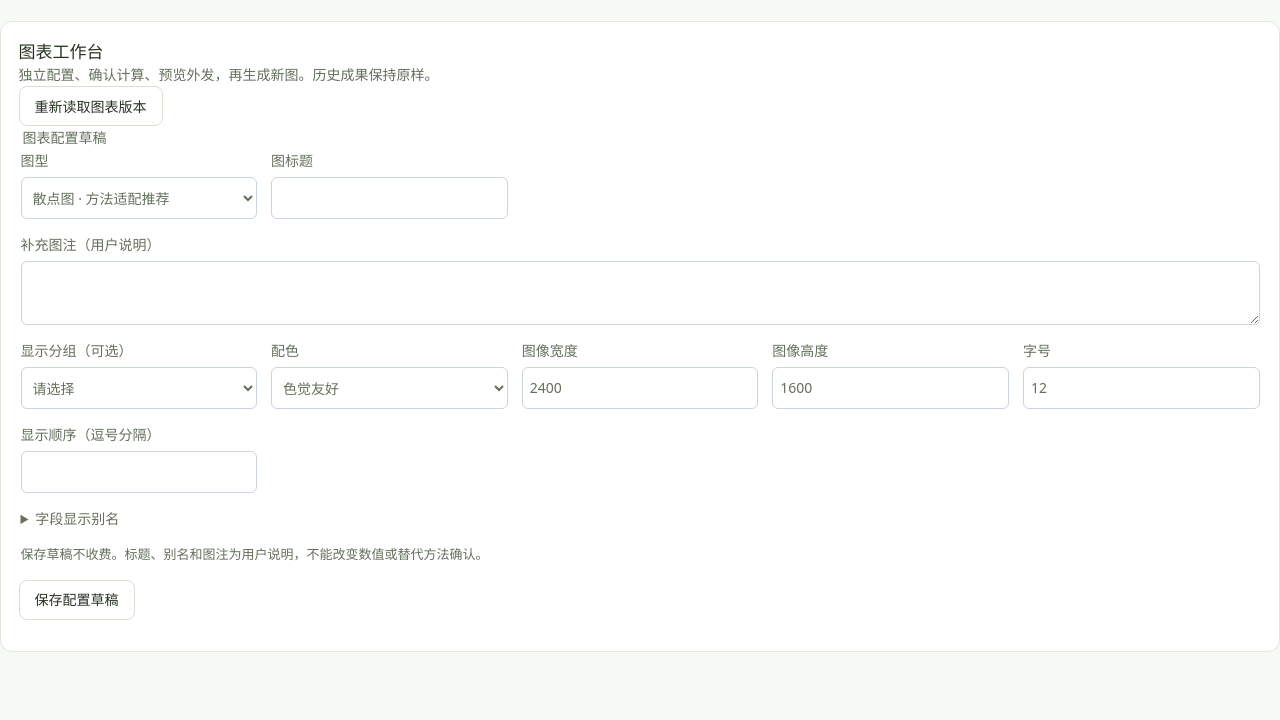
Test: saving a draft is local and does not authorize generation
Expected: the button "保存配置草稿" is shown, x1=18 y1=580 x2=134 y2=620
Select "折线图" in the dropdown labelled "图型" at (139, 198), box x1=20 y1=178 x2=257 y2=220
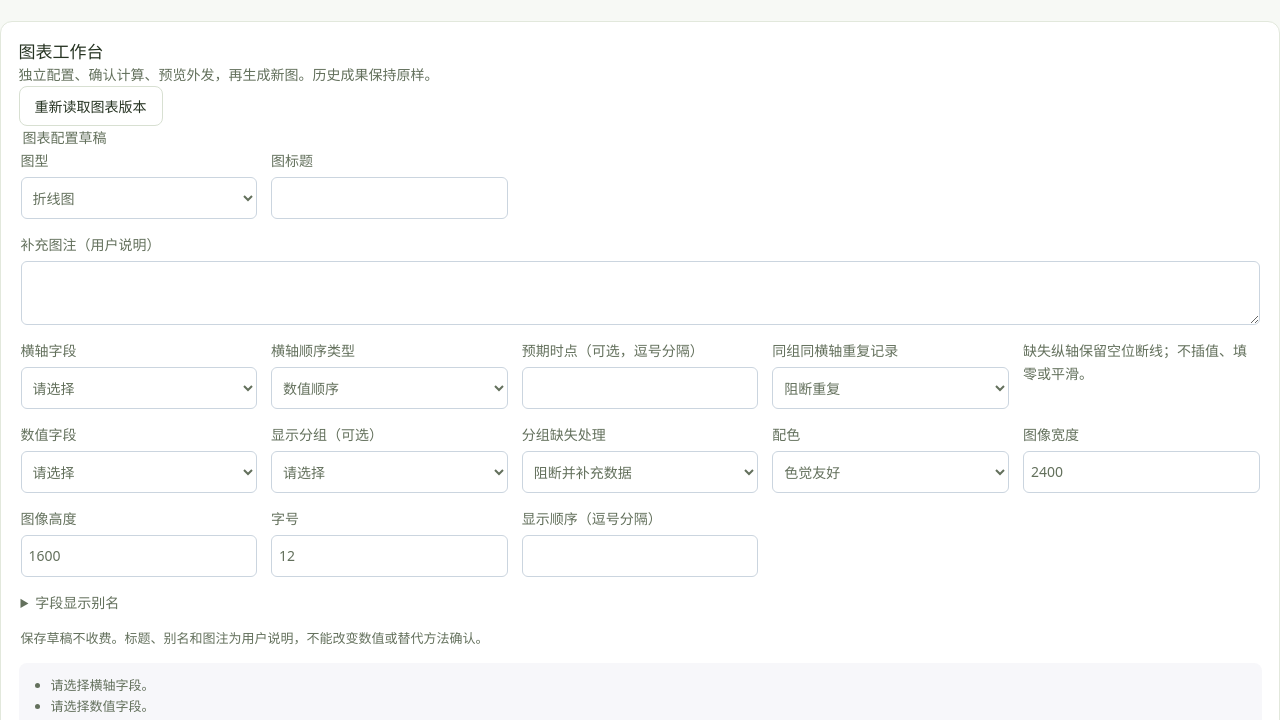
Now the list item "请选择横轴字段。" is shown, box x1=50 y1=676 x2=154 y2=694
